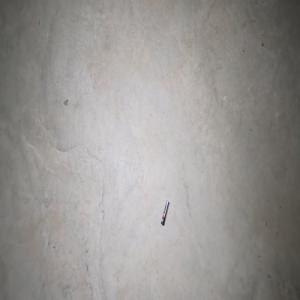Battery: (160, 199, 169, 226)
